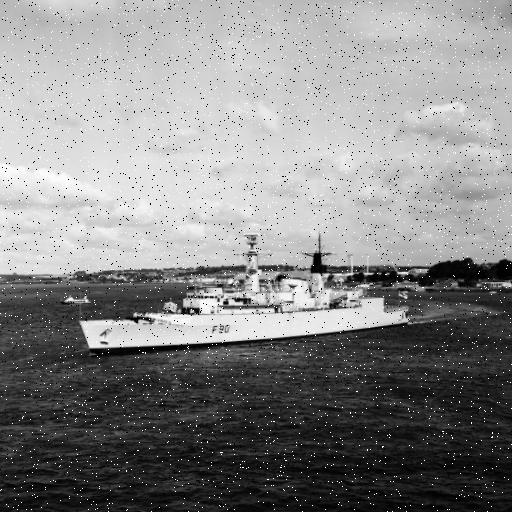Fragata: (76, 215, 413, 357)
